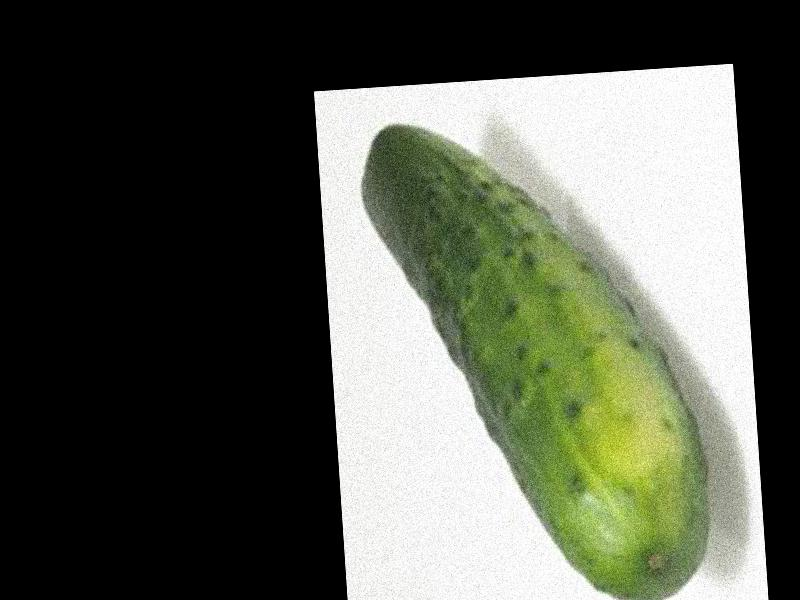Cucumber: (357, 105, 712, 600)
